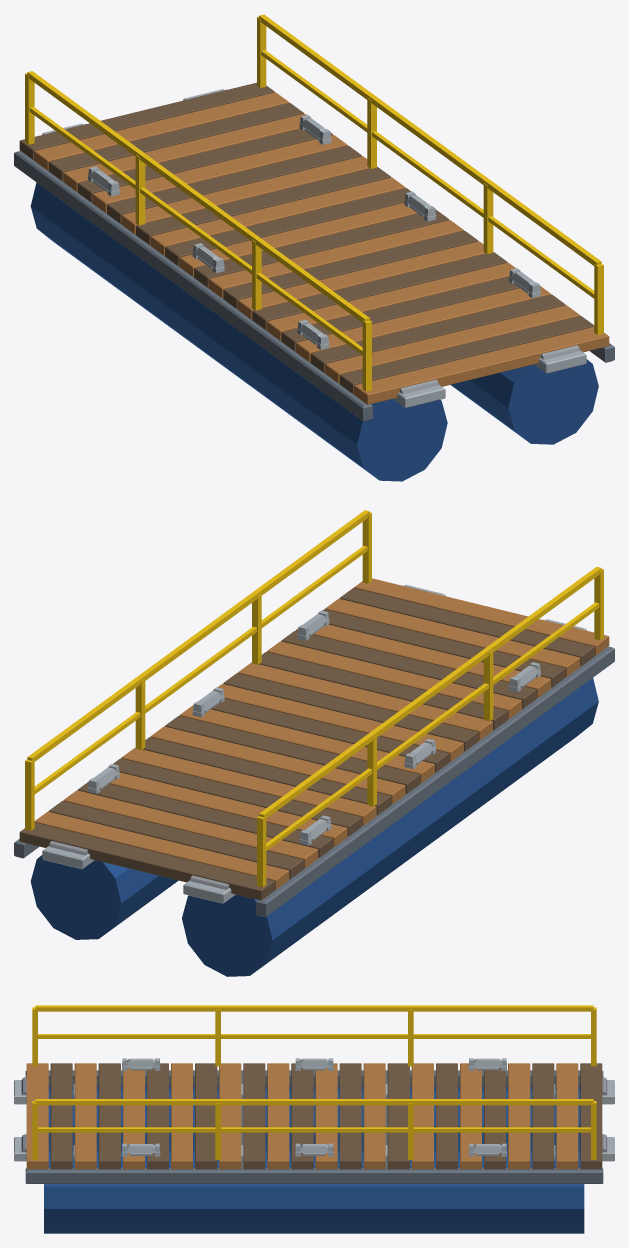
The model's file is HARBOR_03.obj.
The picture shows the model from 3 angles, top to bottom: view 1: azimuth 30°, elevation 25°; view 2: azimuth 150°, elevation 25°; view 3: azimuth 270°, elevation 25°; orthographic projection. The views are drawn at different scales.
Visible parts, largest first — view 1: HARBOR_03__deck, HARBOR_03__pontoons, HARBOR_03__rail, HARBOR_03__pontoon_caps, HARBOR_03__frame, HARBOR_03__rail_posts, HARBOR_03__cleats, HARBOR_03__hinge_plate; view 2: HARBOR_03__deck, HARBOR_03__pontoons, HARBOR_03__rail, HARBOR_03__frame, HARBOR_03__pontoon_caps, HARBOR_03__rail_posts, HARBOR_03__cleats, HARBOR_03__hinge_plate; view 3: HARBOR_03__deck, HARBOR_03__pontoons, HARBOR_03__rail, HARBOR_03__frame, HARBOR_03__cleats, HARBOR_03__rail_posts, HARBOR_03__hinge_plate, HARBOR_03__hinge_pin.
Boxes of the visible parts, <box> form: HARBOR_03__deck: <box>19,82,609,404</box>; HARBOR_03__pontoons: <box>30,182,526,477</box>; HARBOR_03__rail: <box>27,14,601,355</box>; HARBOR_03__pontoon_caps: <box>31,183,598,481</box>; HARBOR_03__frame: <box>14,151,614,421</box>; HARBOR_03__rail_posts: <box>25,16,603,391</box>; HARBOR_03__cleats: <box>88,115,540,349</box>; HARBOR_03__hinge_plate: <box>42,89,586,407</box>; HARBOR_03__deck: <box>19,578,609,900</box>; HARBOR_03__pontoons: <box>30,678,598,976</box>; HARBOR_03__rail: <box>27,510,601,850</box>; HARBOR_03__frame: <box>14,646,614,917</box>; HARBOR_03__pontoon_caps: <box>31,678,598,976</box>; HARBOR_03__rail_posts: <box>25,512,603,887</box>; HARBOR_03__cleats: <box>88,610,540,845</box>; HARBOR_03__hinge_plate: <box>42,585,586,903</box>; HARBOR_03__deck: <box>26,1063,602,1169</box>; HARBOR_03__pontoons: <box>44,1086,584,1233</box>; HARBOR_03__rail: <box>35,1005,593,1132</box>; HARBOR_03__frame: <box>25,1070,603,1183</box>; HARBOR_03__cleats: <box>122,1058,506,1156</box>; HARBOR_03__rail_posts: <box>32,1007,596,1159</box>; HARBOR_03__hinge_plate: <box>14,1080,614,1161</box>; HARBOR_03__hinge_pin: <box>21,1077,607,1152</box>.
Size of the model in its own units: 2.5 by 1.68 by 6.24.
